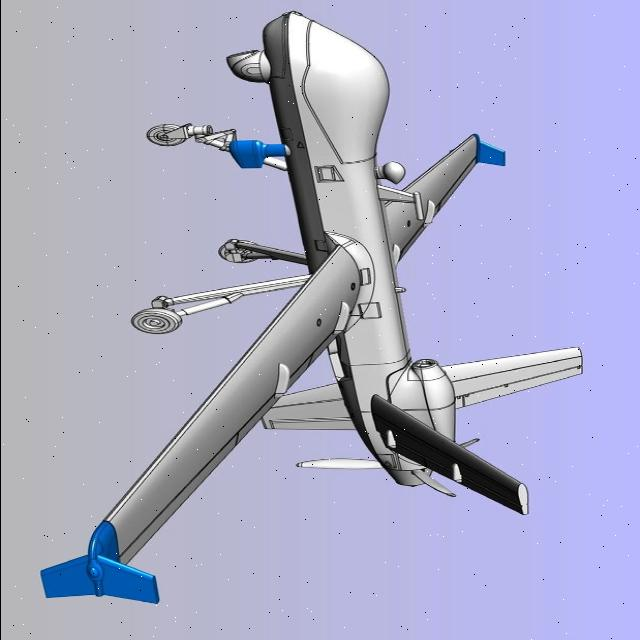MQ9: (5, 0, 611, 612)
